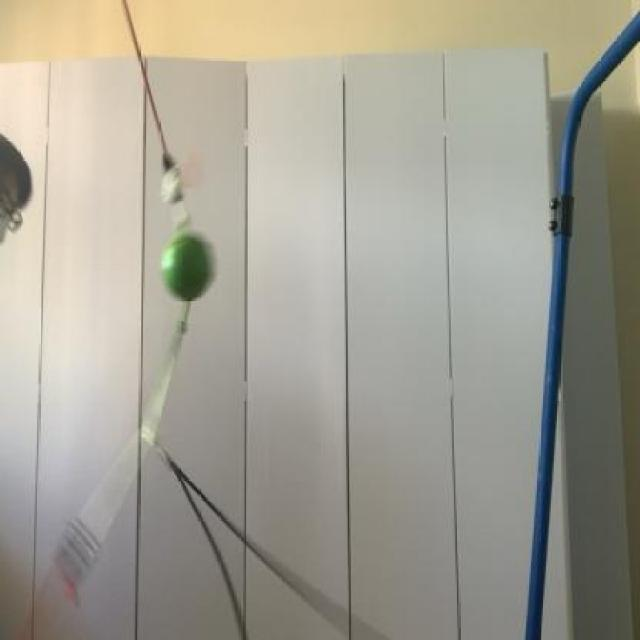baseball: (156, 214, 232, 323)
